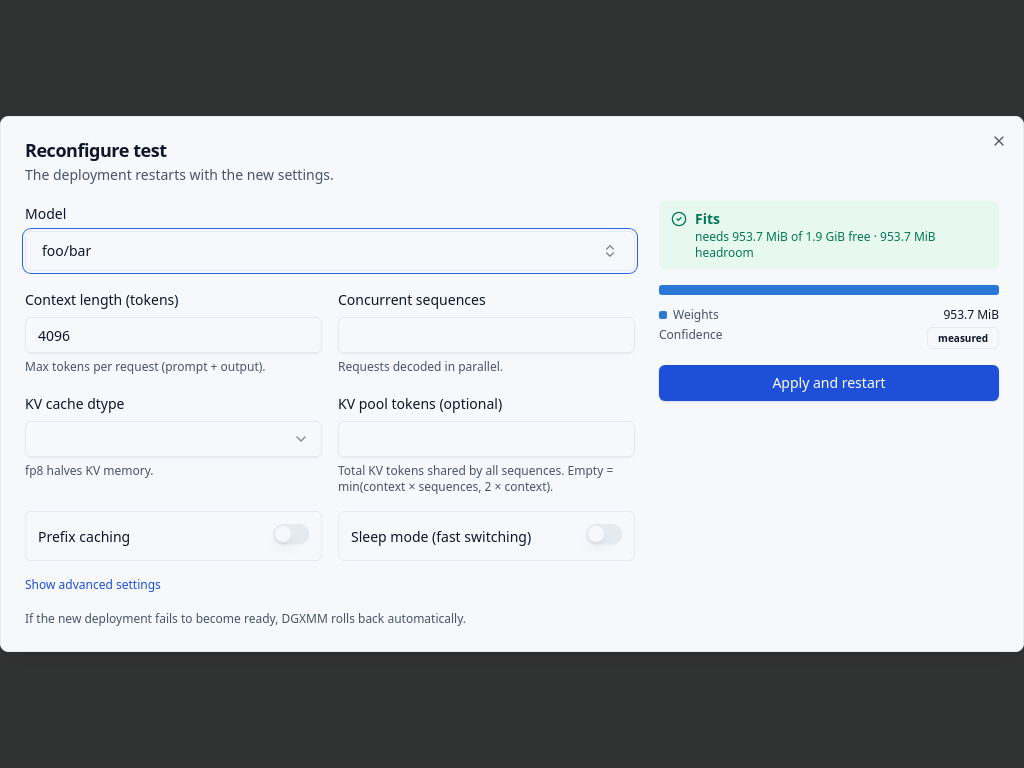
SwitchDialog › re-plans after an insufficient_memory 409 without looping, and a chosen plan sticks
Expected: the text "Fits" is shown, [695,209,720,228]
Click the button "Apply and restart" at (829, 383), box [659,365,999,401]
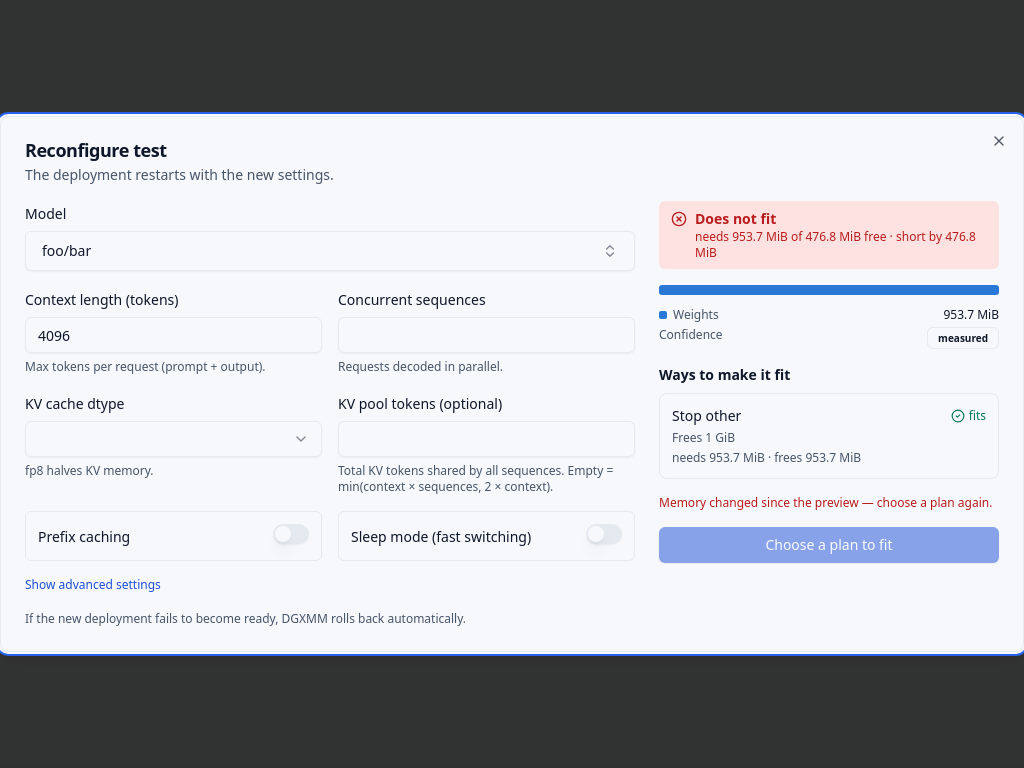
Click the radio button labelled "Stop other" at (707, 416), box [659,393,999,479]
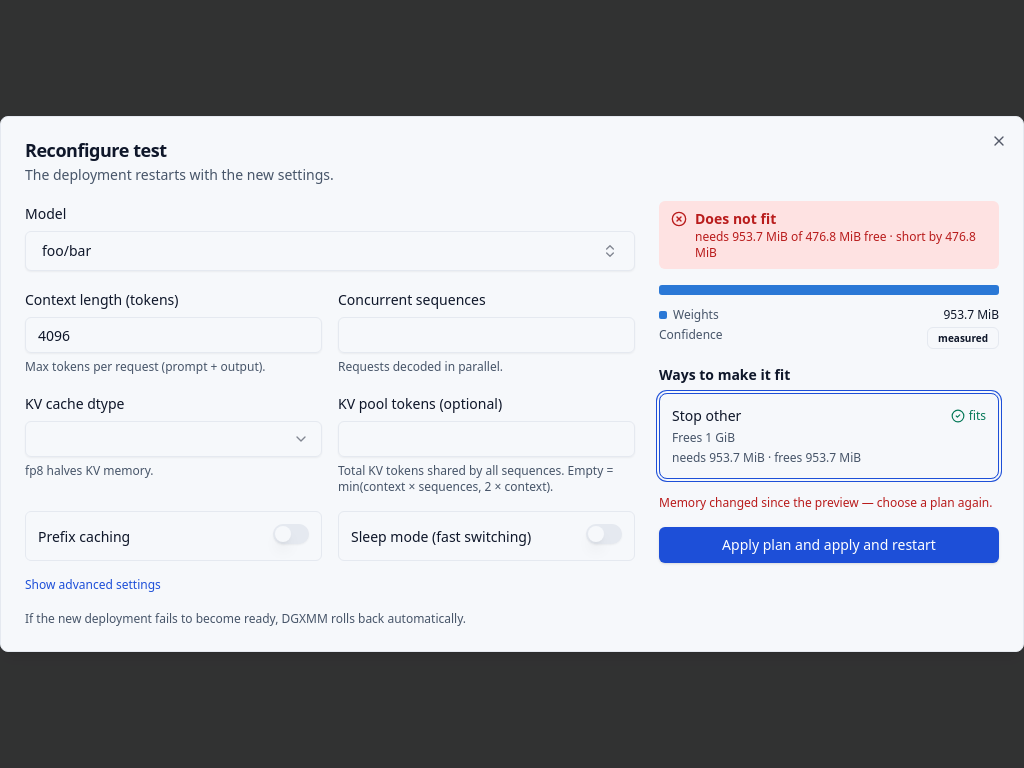
Expected: the button "Apply plan and apply and restart" is enabled, [659,527,999,563]
